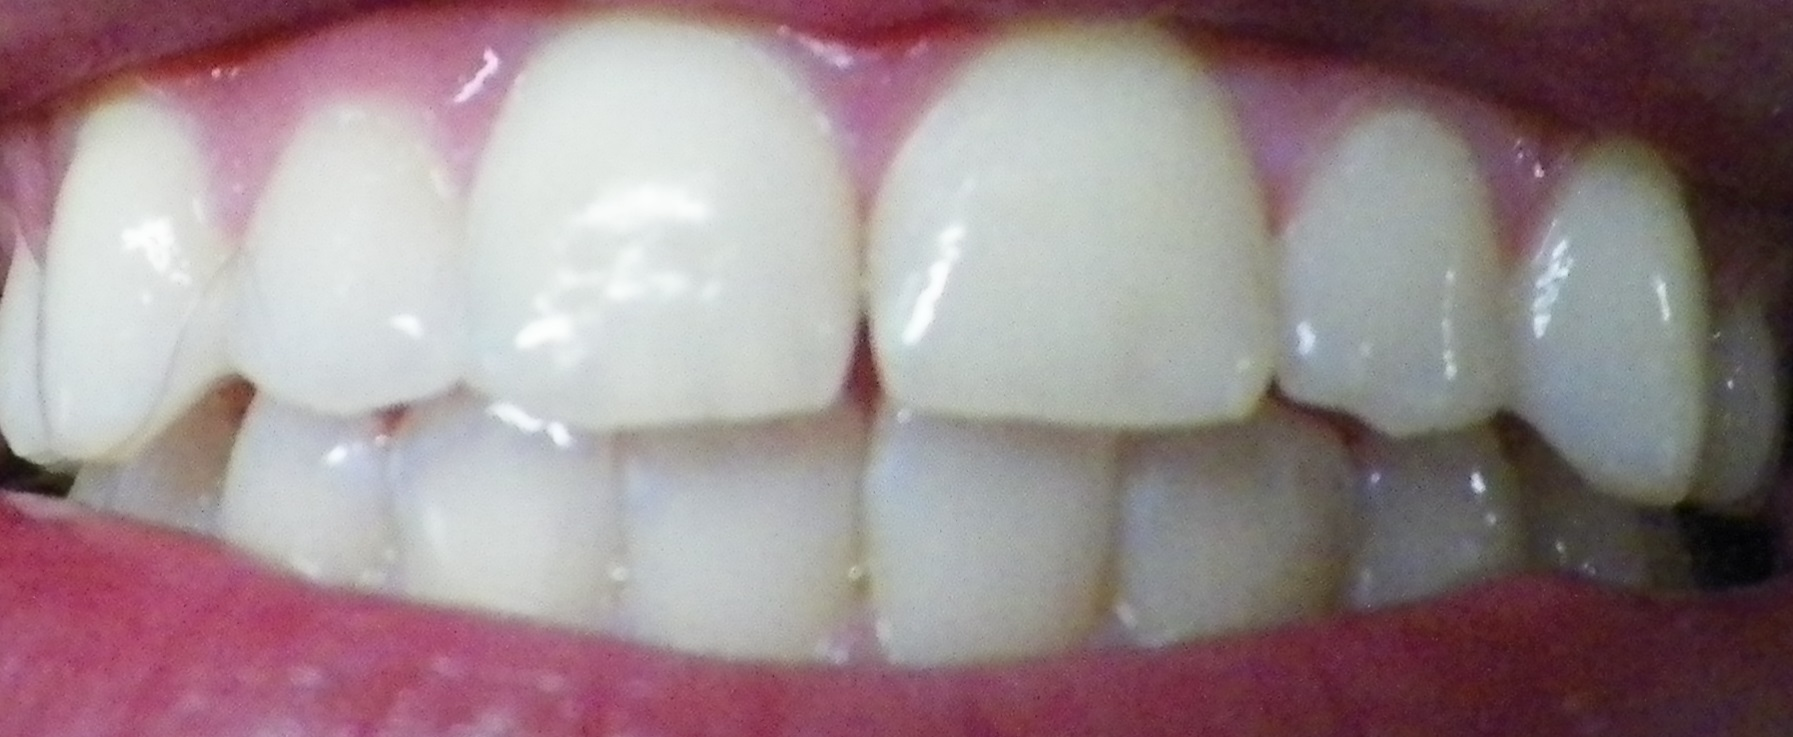boca: (15, 19, 1758, 680)
